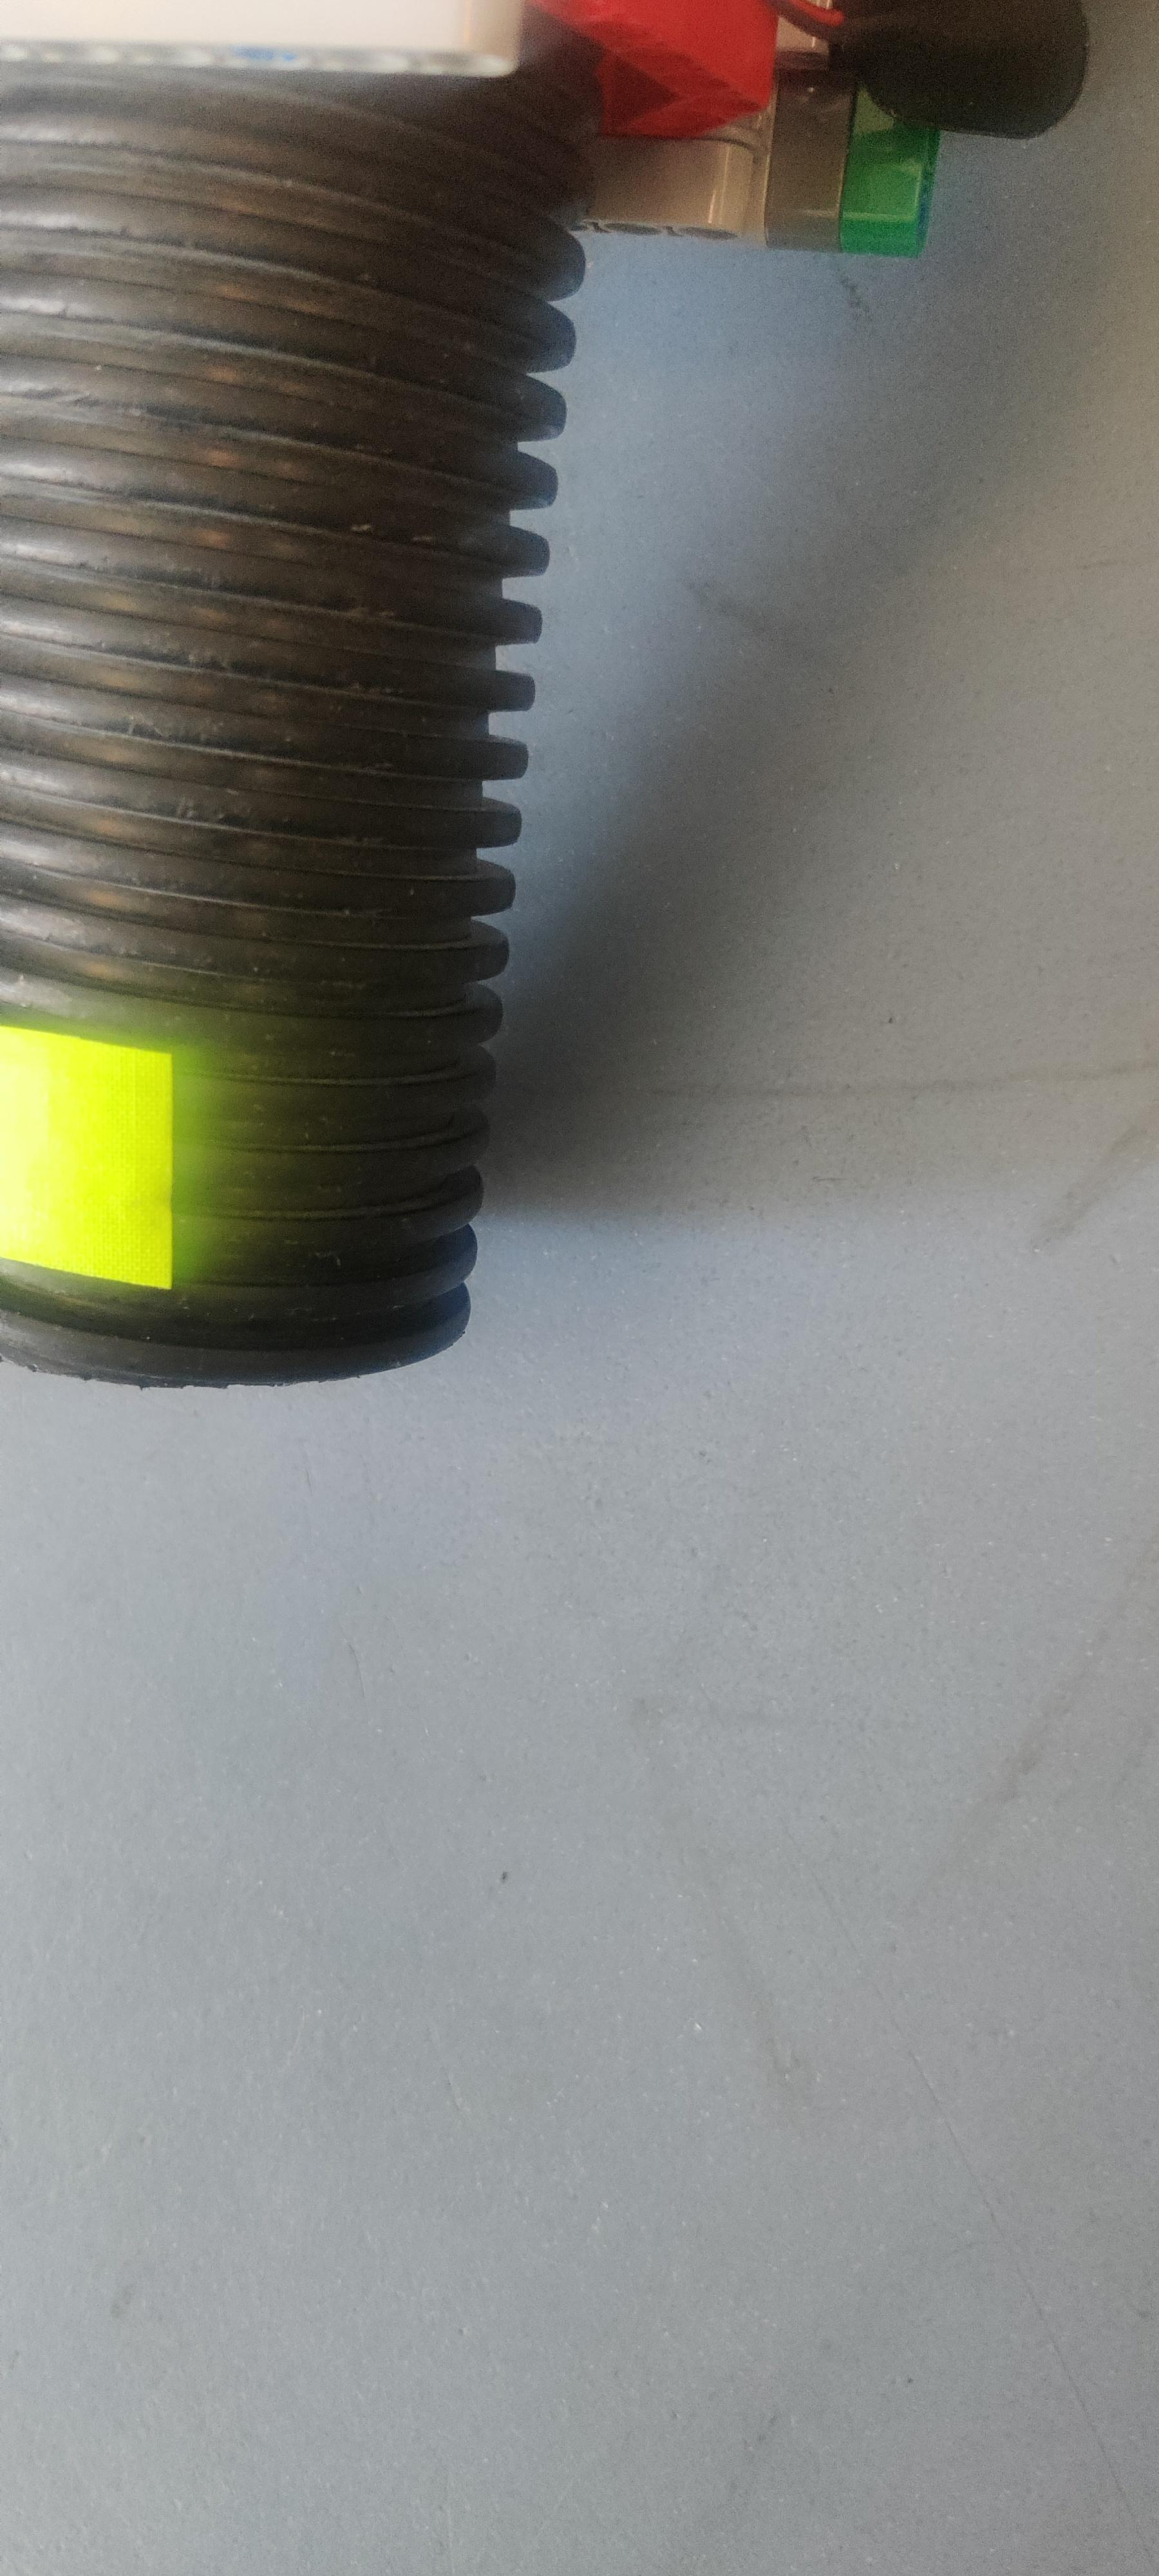robot-front: (0, 174, 540, 1375)
